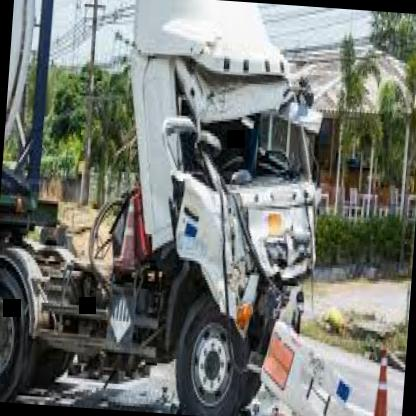accident: (113, 2, 399, 416)
